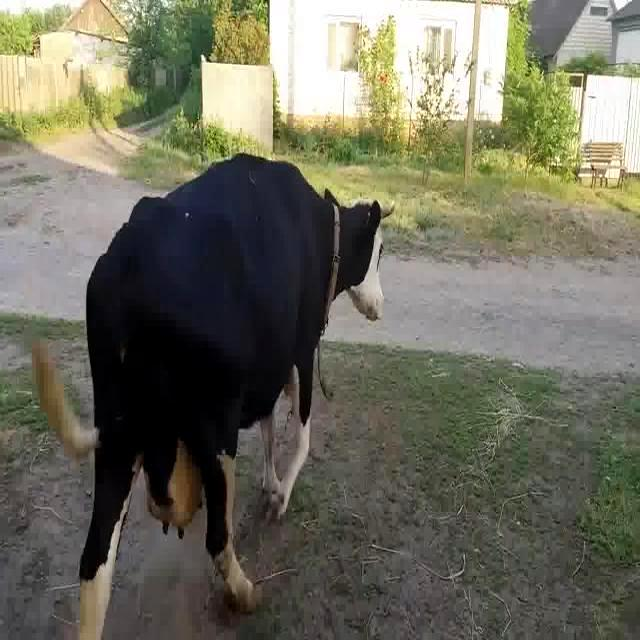COW: (34, 155, 384, 639)
